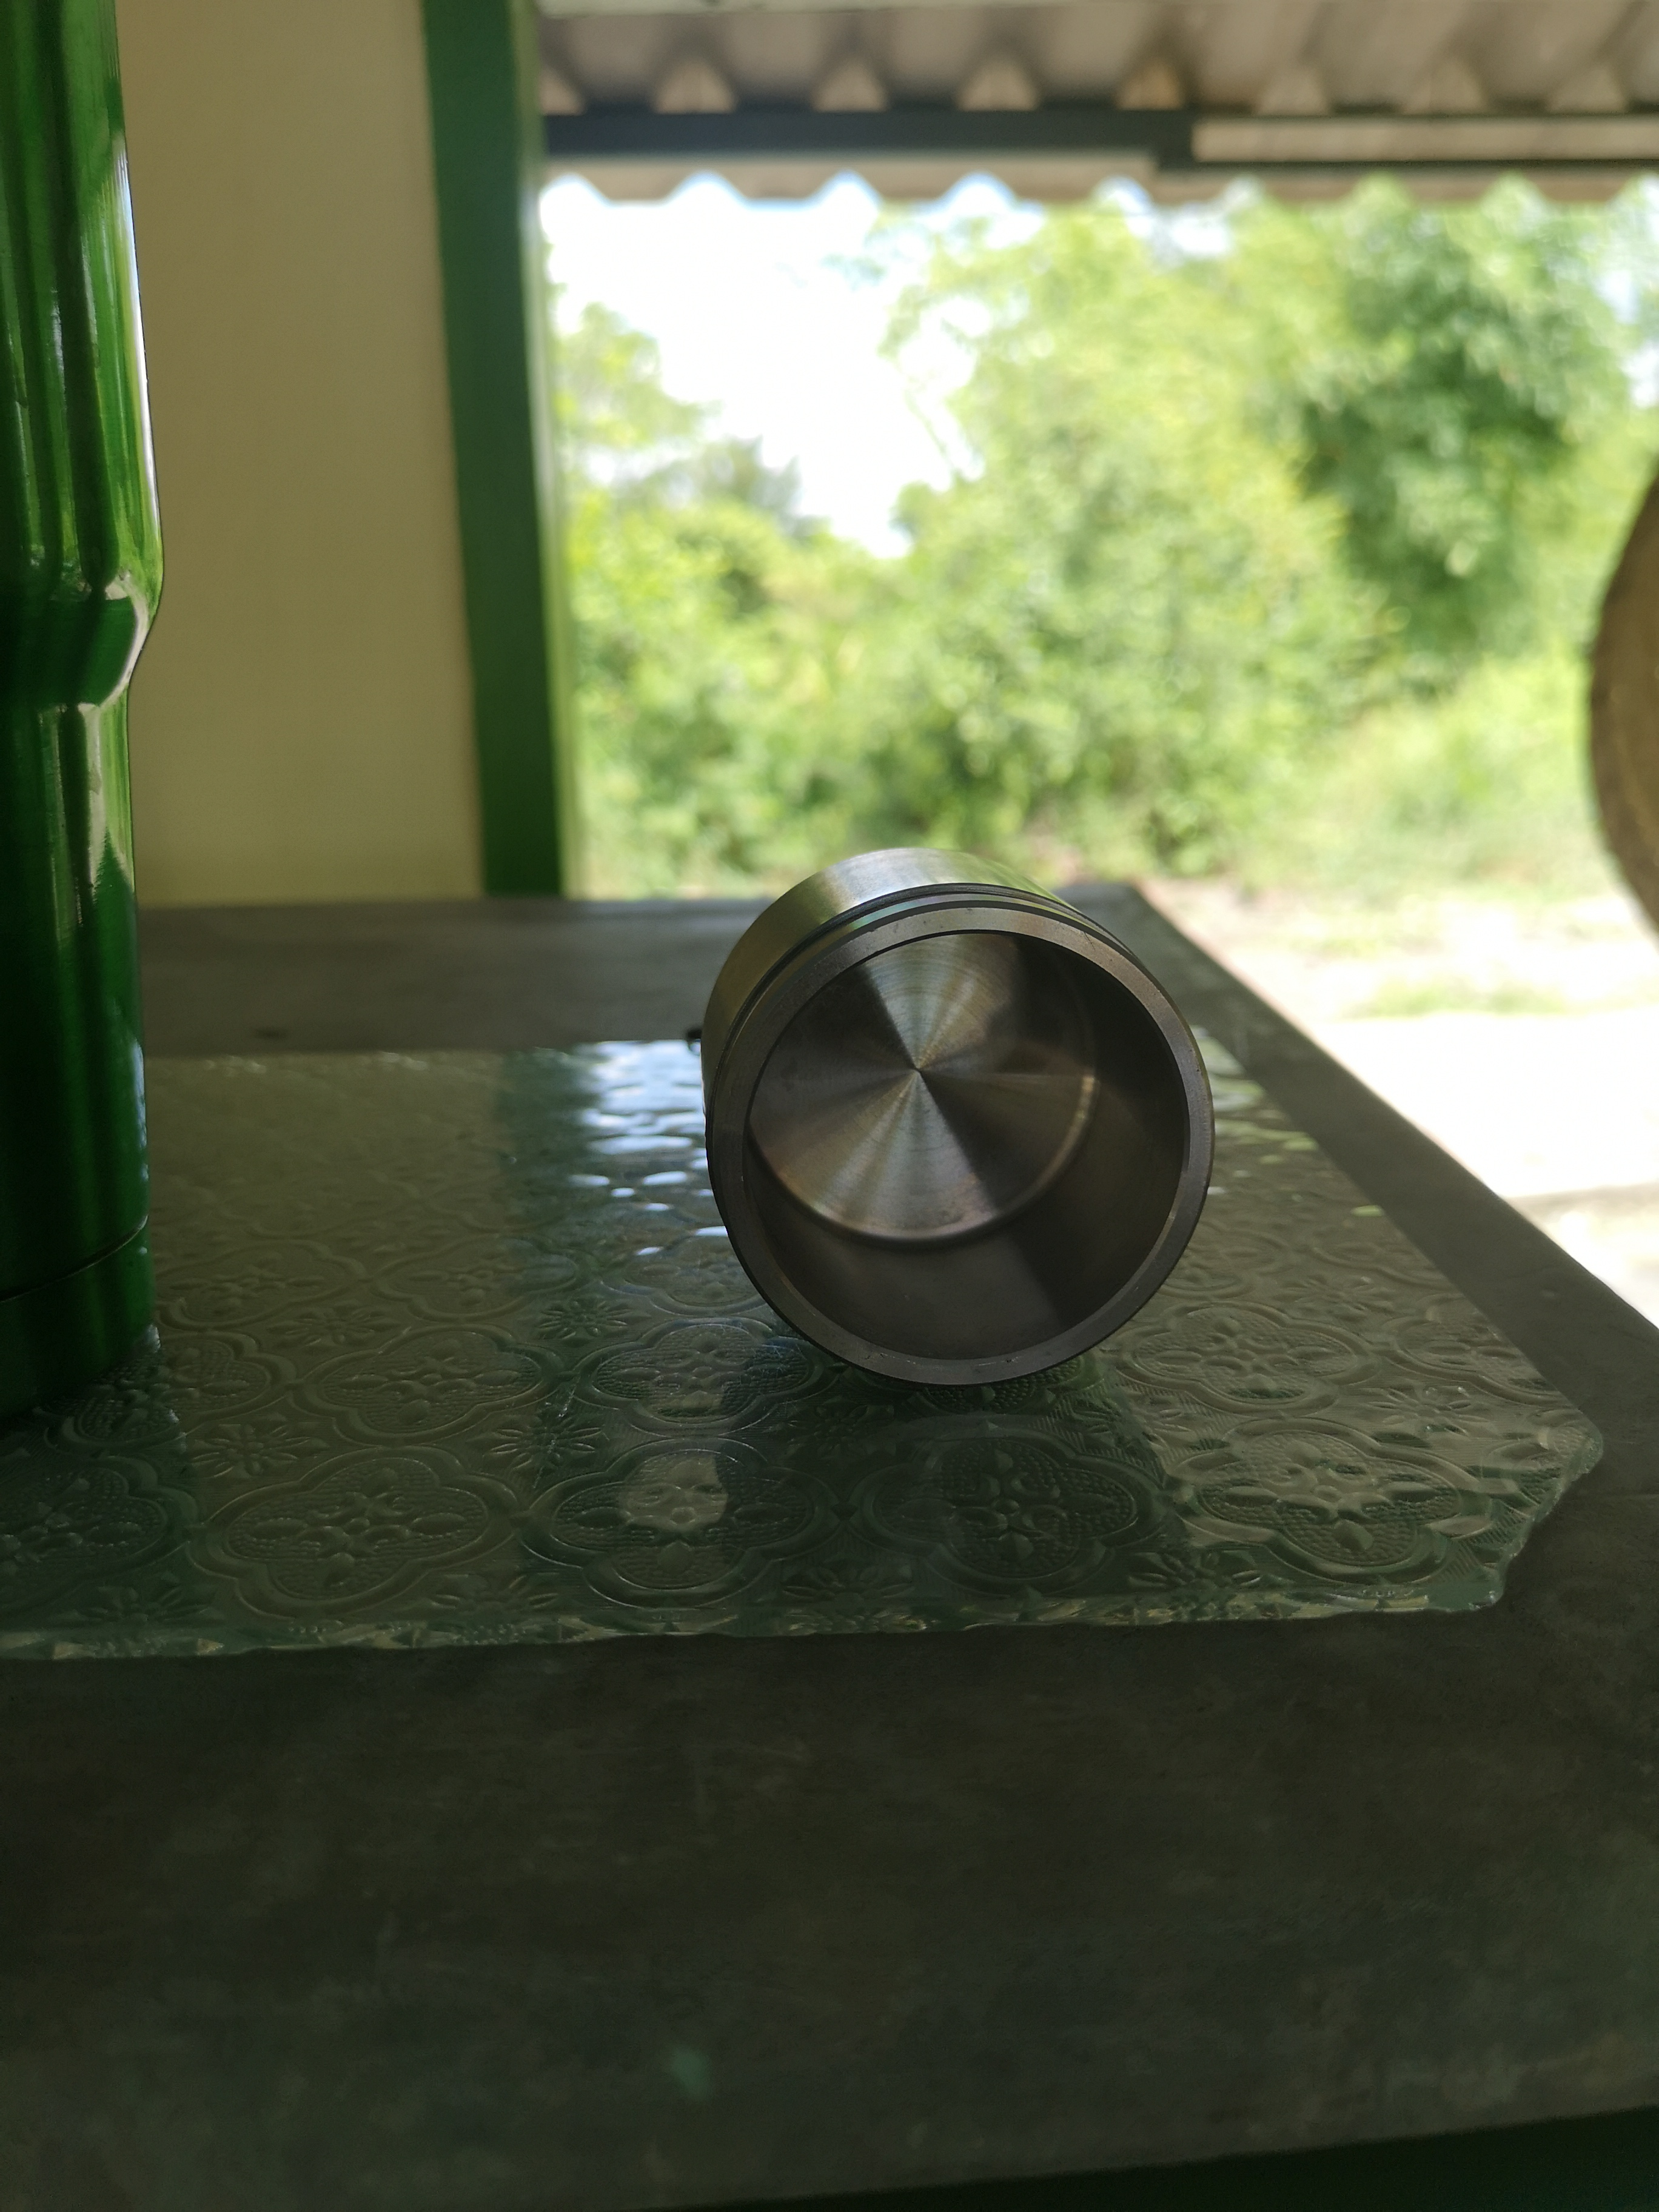ลูกสูบดิสเบรค: (678, 827, 1260, 1409)
